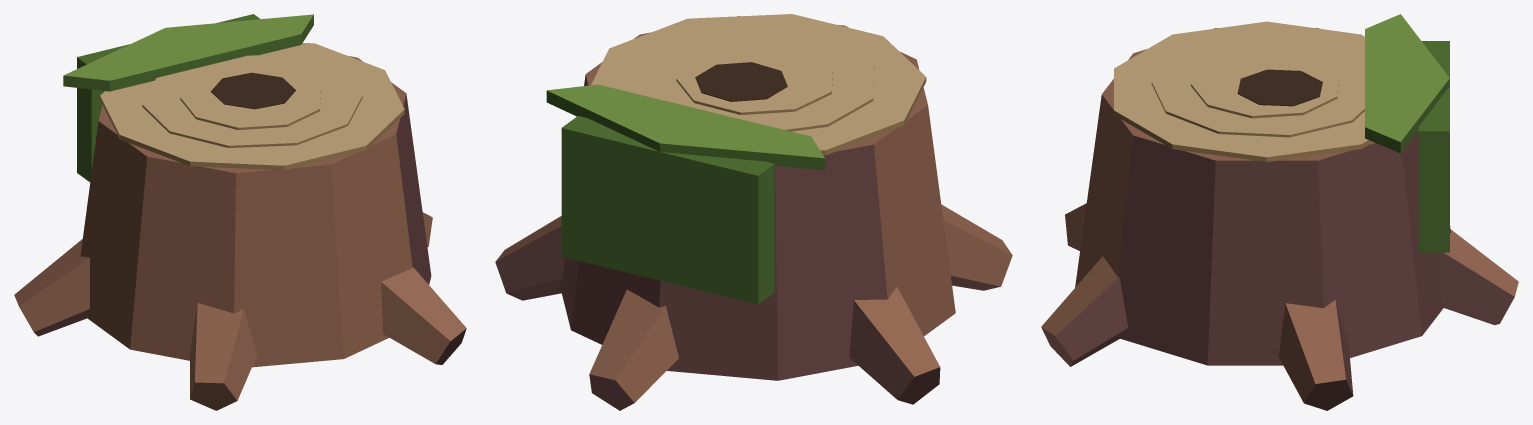
Rendered from stump_hollow.fbx.
The picture shows the model from 3 angles, left to right: view 1: azimuth 30°, elevation 25°; view 2: azimuth 150°, elevation 25°; view 3: azimuth 270°, elevation 25°; orthographic projection. The views are drawn at different scales.
Parts seen in each view (by area): view 1: stump_hollow; view 2: stump_hollow; view 3: stump_hollow.
Boxes of the visible parts, x1,y1,x2,y2 form: stump_hollow: (14,14,466,410); stump_hollow: (495,14,1012,410); stump_hollow: (1041,14,1518,410).
Size of the model in its own units: 0.5467 by 0.2965 by 0.5353.
